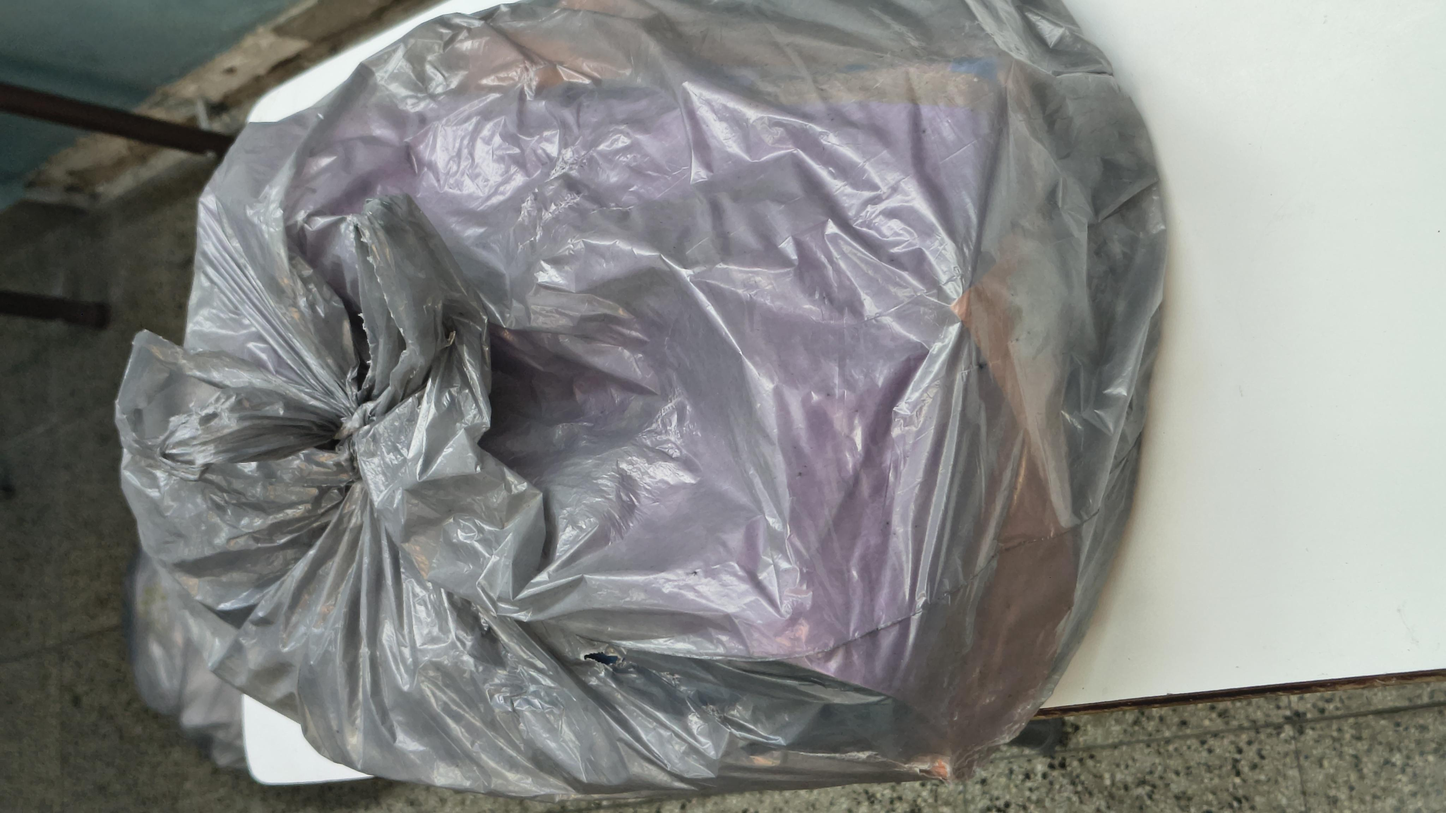Garbage: (19, 44, 1446, 663)
